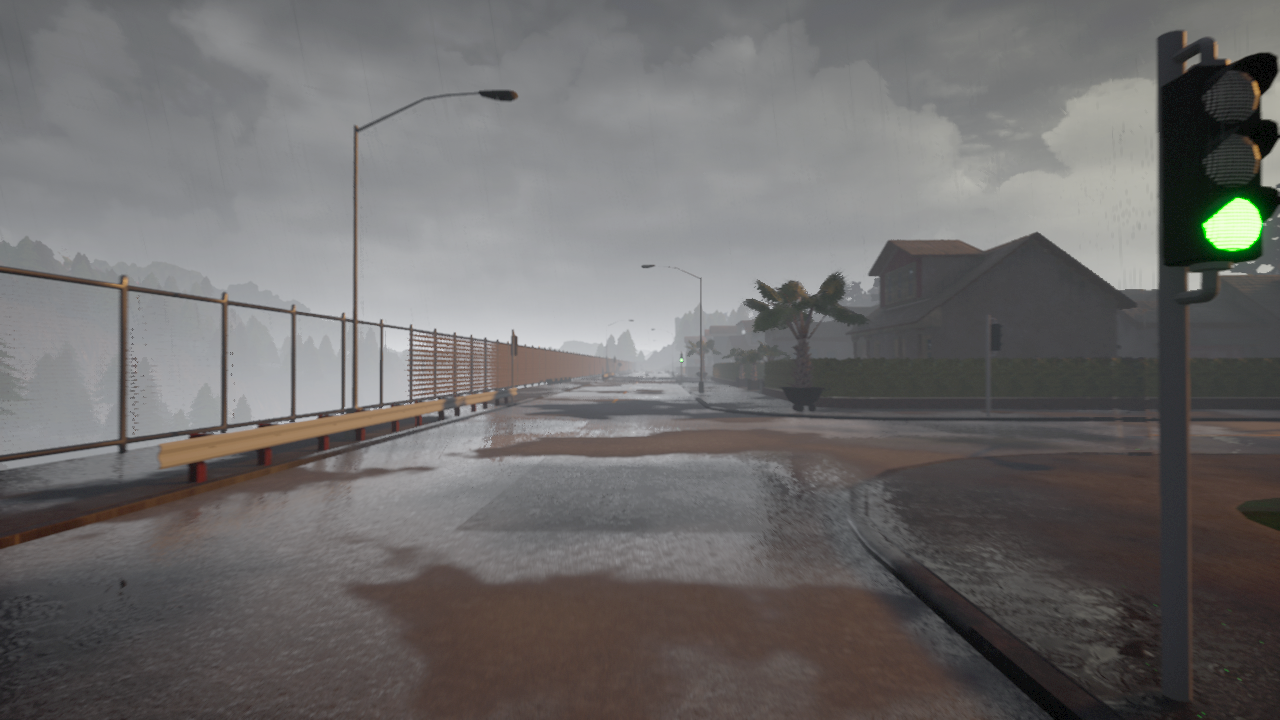green: (1168, 53, 1280, 269)
